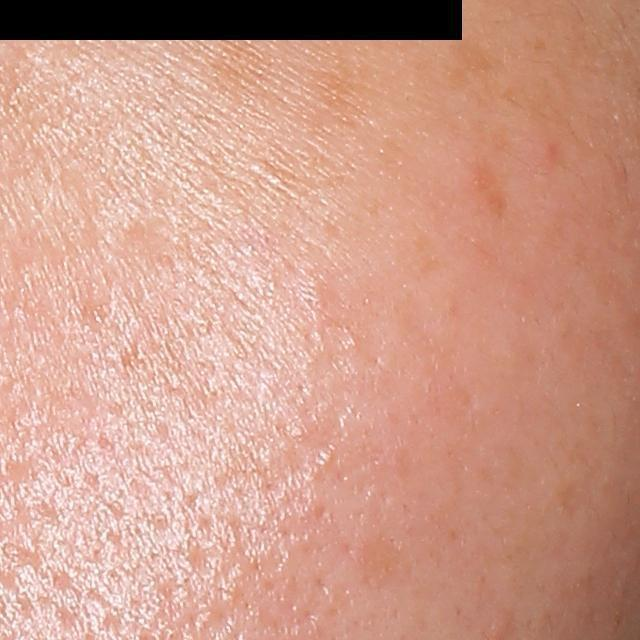melasma: (207, 35, 266, 102), (447, 41, 489, 92), (472, 165, 508, 222)
